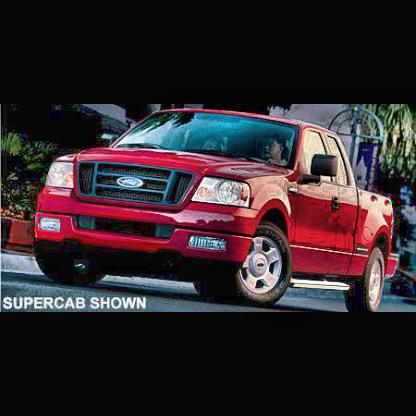Ford F-150 Regular Cab 2007: (27, 112, 401, 312)
